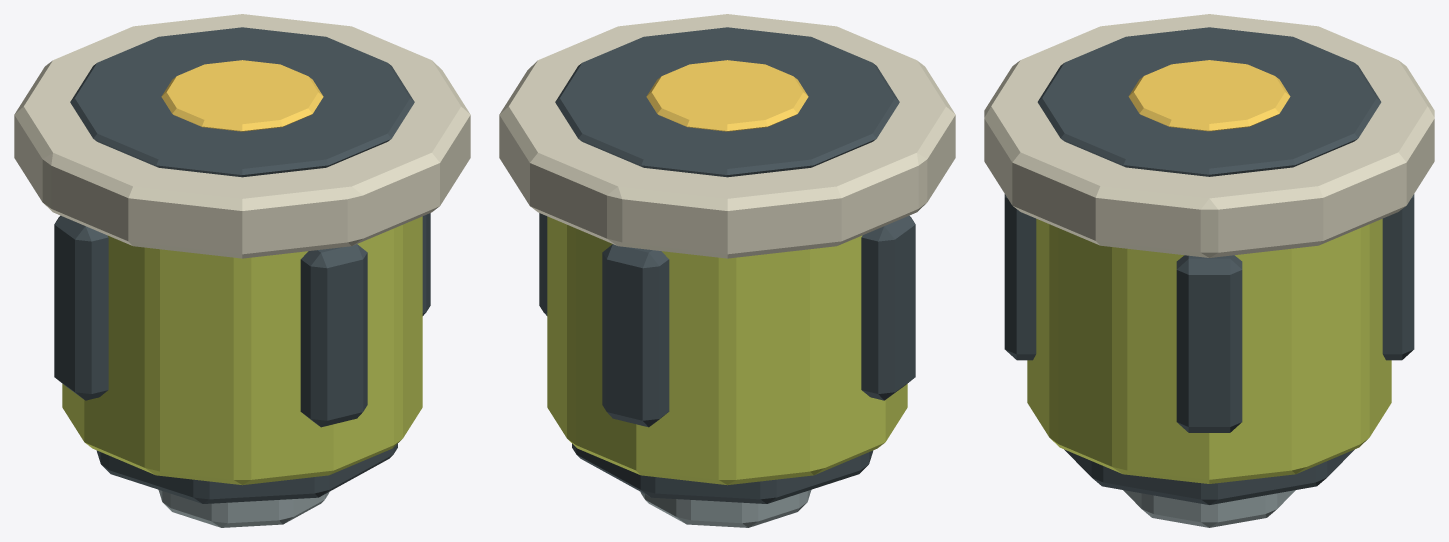
Rendered from booster.glb.
3 views of the same model, side by side, from view 1: azimuth 30°, elevation 25°; view 2: azimuth 150°, elevation 25°; view 3: azimuth 270°, elevation 25° (orthographic).
Visible parts, largest first — view 1: booster_Mesh; view 2: booster_Mesh; view 3: booster_Mesh.
Part boxes in pixels (left/top/right/bottom): booster_Mesh: left=14, top=14, right=470, bottom=527; booster_Mesh: left=499, top=14, right=955, bottom=527; booster_Mesh: left=984, top=14, right=1434, bottom=527.
Bounding box in the file's own units: 0.4453 × 0.438 × 0.4453.
